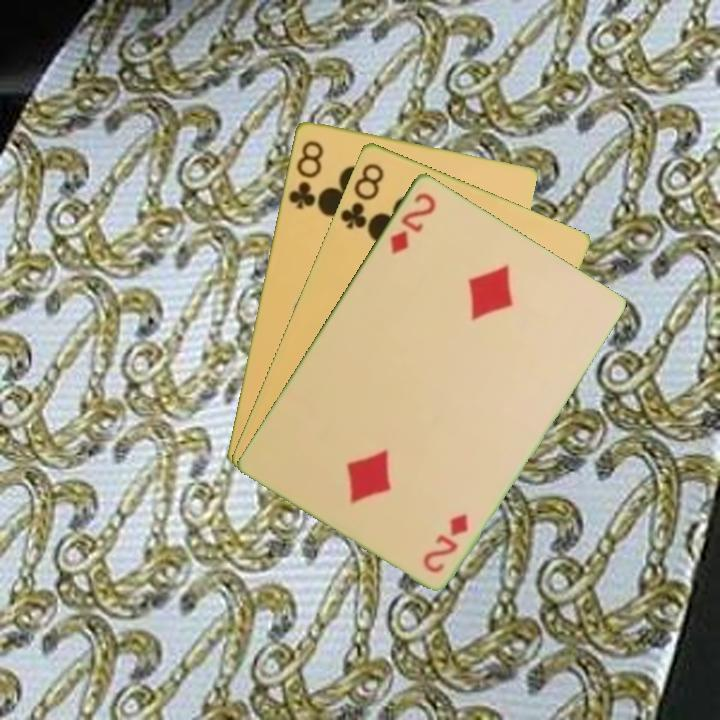2d: (386, 188, 439, 257), (420, 510, 472, 576)
8c: (336, 158, 387, 232), (284, 136, 326, 212)
